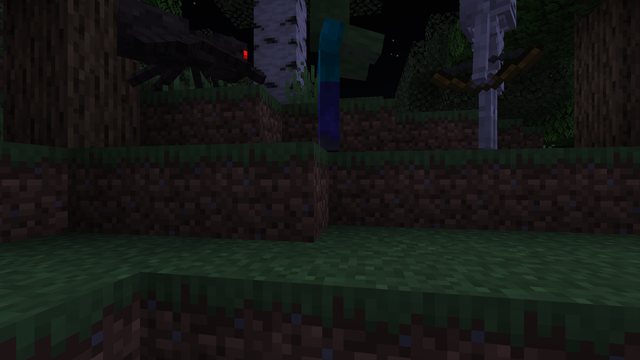araignees: (113, 3, 259, 91)
squelettes: (453, 0, 529, 152)
zombies: (301, 0, 350, 154)
